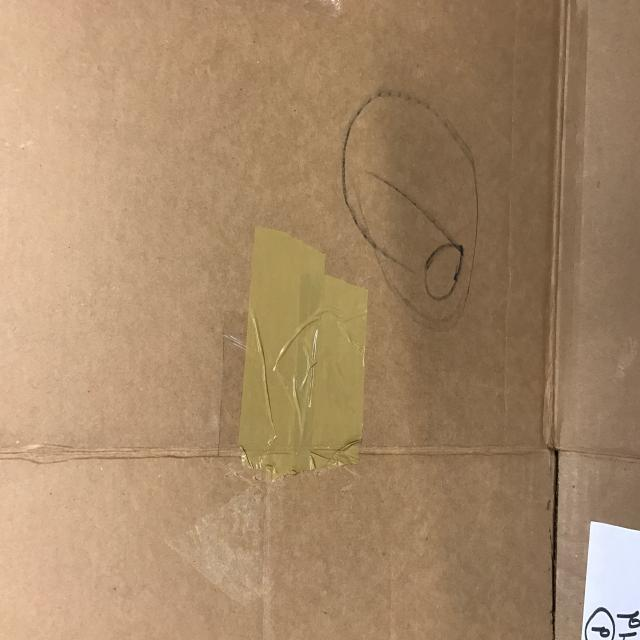cardboard: (236, 225, 369, 476)
